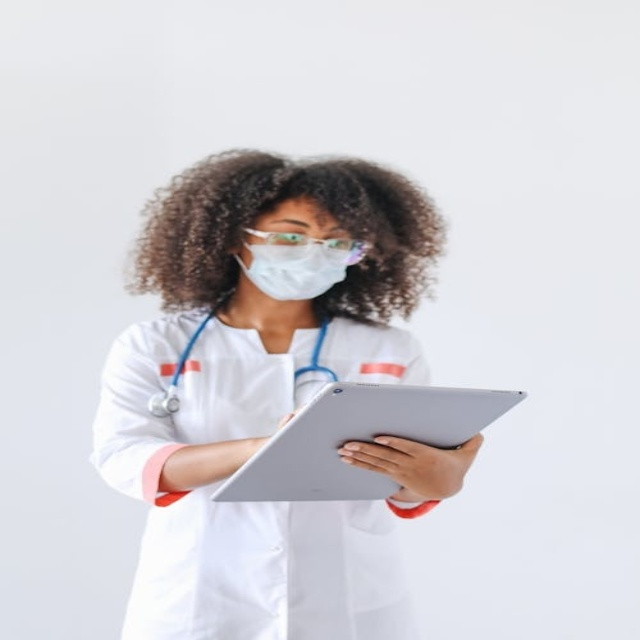Gafas: (240, 228, 370, 264)
Mascara: (235, 233, 362, 300)
Sin_guantes: (336, 432, 481, 504)
